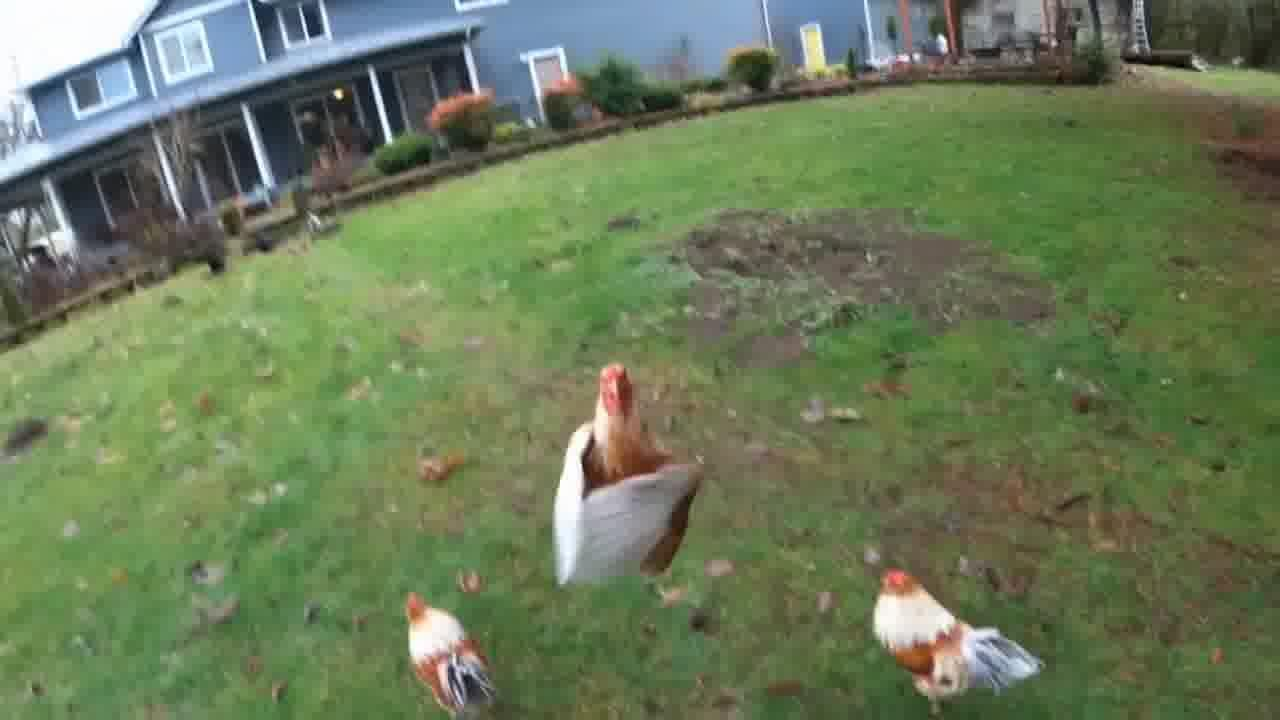Normal: (536, 356, 716, 606), (866, 548, 1050, 706), (386, 586, 514, 720)
